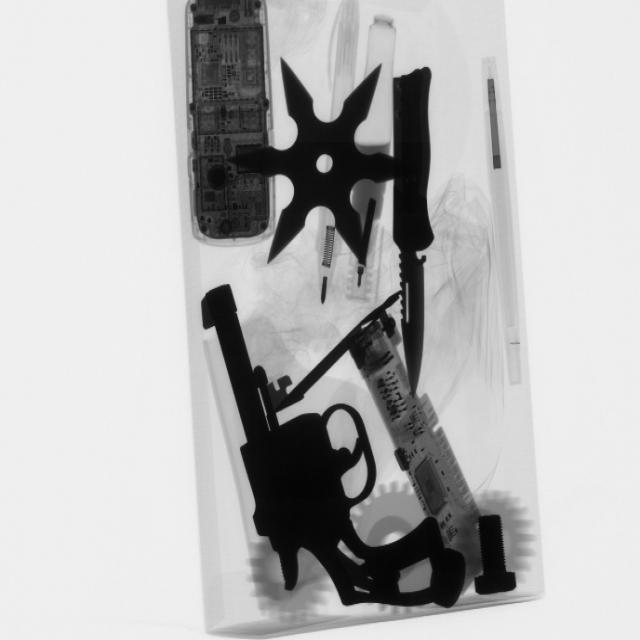GUN: (191, 278, 467, 623)
KNIFE: (384, 60, 449, 386)
SHURIKEN: (236, 58, 401, 274)
